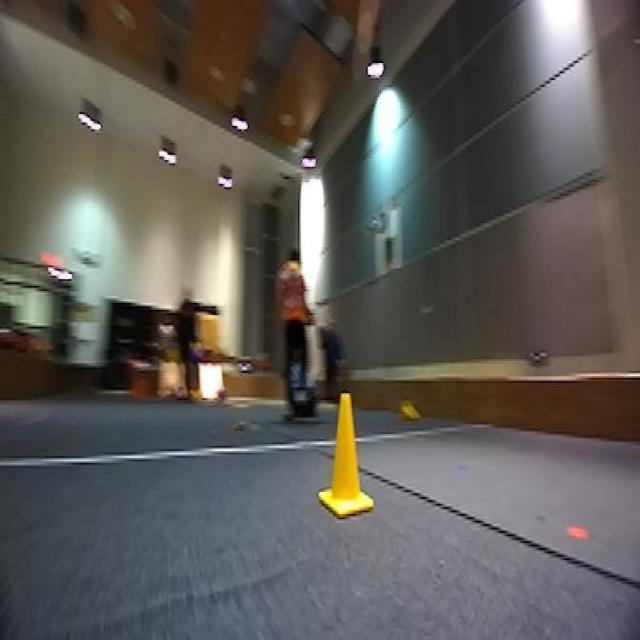frc_cone: (317, 403, 374, 533), (393, 396, 426, 426)
